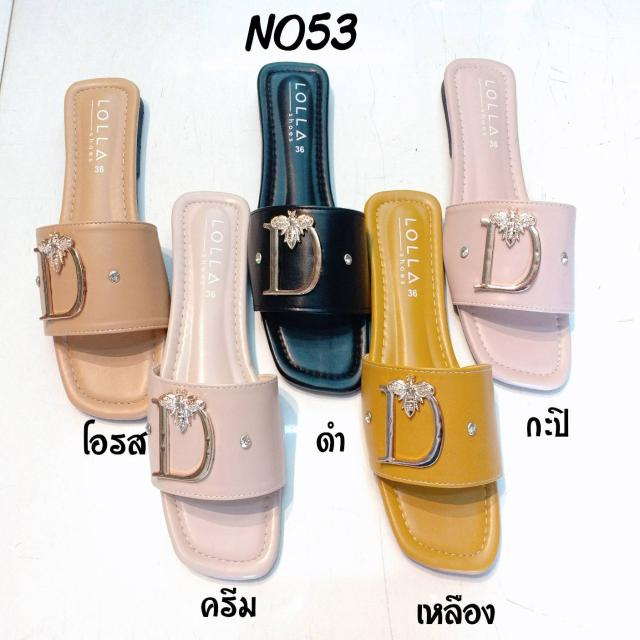black: (251, 65, 366, 383)
cream: (154, 187, 286, 585)
kapi: (445, 58, 573, 388)
orot: (50, 79, 167, 418)
yellow: (361, 190, 502, 570)
